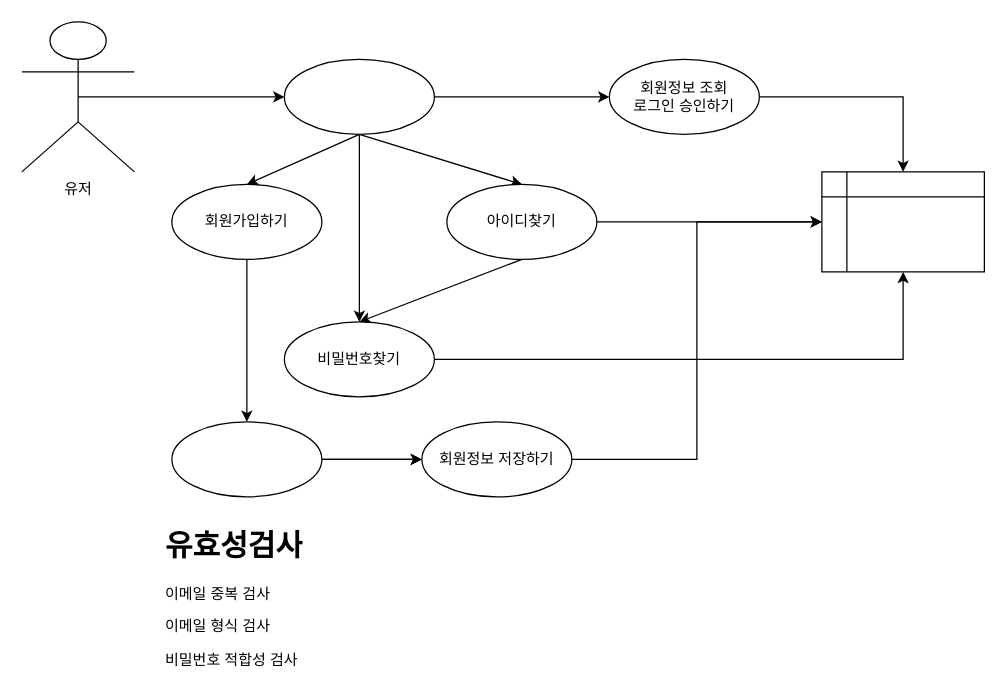
The diagram is 1006 pixels wide and 694 high, and some of its shapes have lost their labels. The centre of each missing label's shape, as x and y in pixels:
"로그인하기" belongs at (x=358, y=96).
"유효성검사하기" belongs at (x=246, y=459).
"회원정보 Table" belongs at (x=902, y=221).
